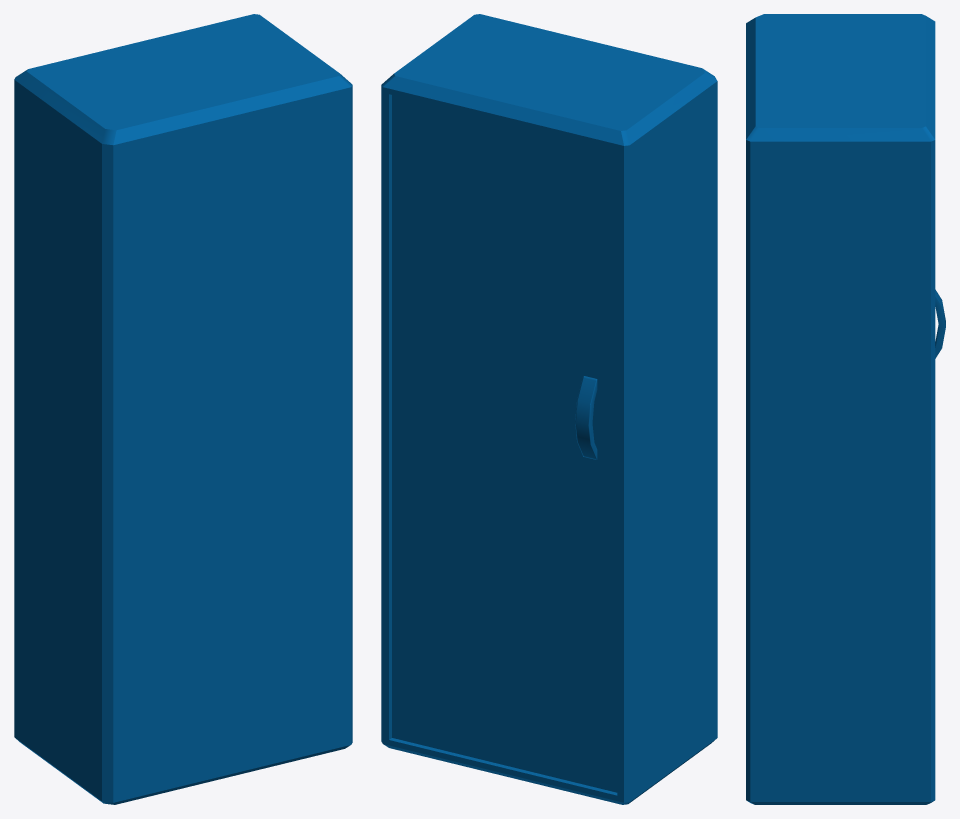
The model's file is Container_Cabinet_2.fbx.
The picture shows the model from 3 angles, left to right: view 1: azimuth 30°, elevation 25°; view 2: azimuth 150°, elevation 25°; view 3: azimuth 270°, elevation 25°; orthographic projection.
Visible parts, largest first — view 1: pasted__pCube16; view 2: pasted__pCube16, pasted__pCube65; view 3: pasted__pCube16, pasted__pCube65.
Part boxes in pixels (left/top/right/bottom): pasted__pCube16: left=14, top=14, right=352, bottom=804; pasted__pCube16: left=381, top=14, right=717, bottom=804; pasted__pCube65: left=575, top=375, right=597, bottom=459; pasted__pCube16: left=746, top=14, right=935, bottom=804; pasted__pCube65: left=935, top=289, right=945, bottom=358.
Bounding box in the file's own units: 0.6252 × 1.61 × 0.4333.
